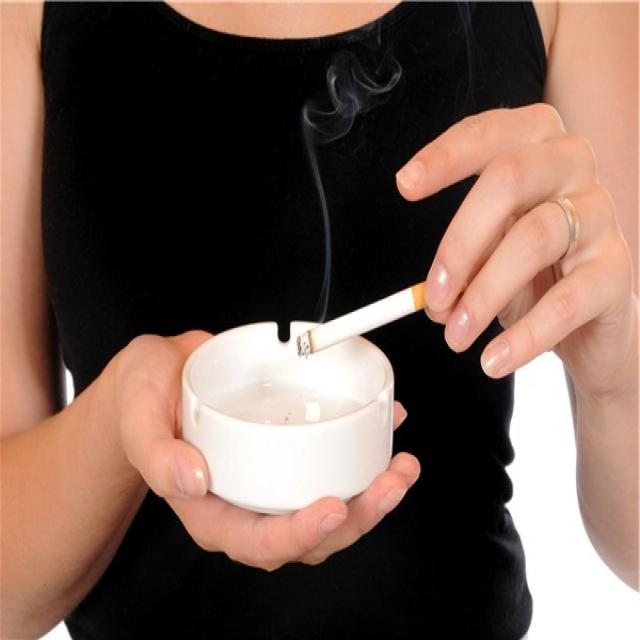smoking: (298, 278, 452, 360)
